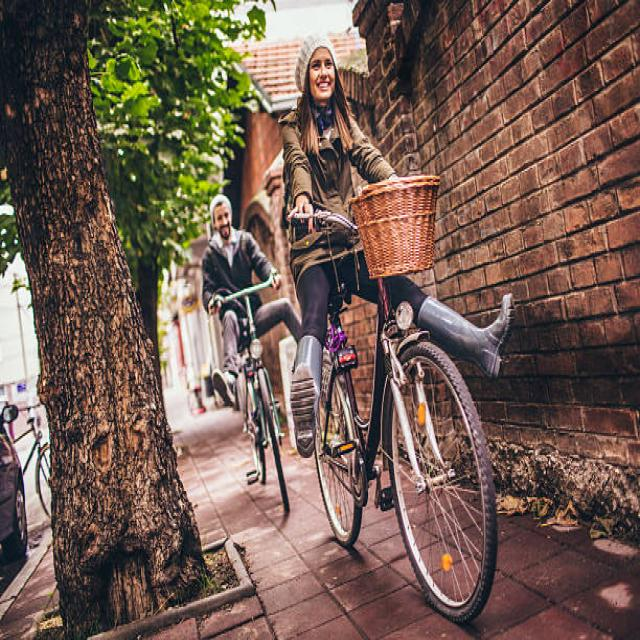bicycle: (281, 36, 514, 622), (202, 195, 300, 513)
